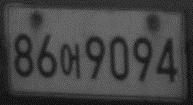0: (108, 35, 129, 80)
4: (154, 38, 179, 83)
6: (36, 32, 58, 79)
8: (13, 33, 35, 77)
9: (83, 34, 106, 79), (132, 36, 153, 81)
어: (58, 42, 83, 80)
